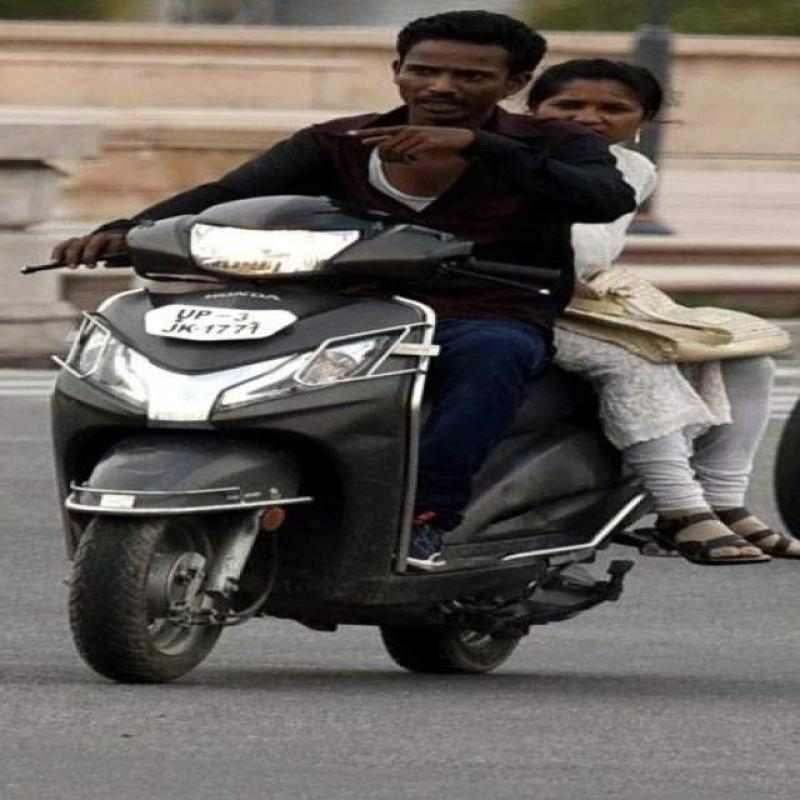nohelmet: (358, 12, 582, 122)
